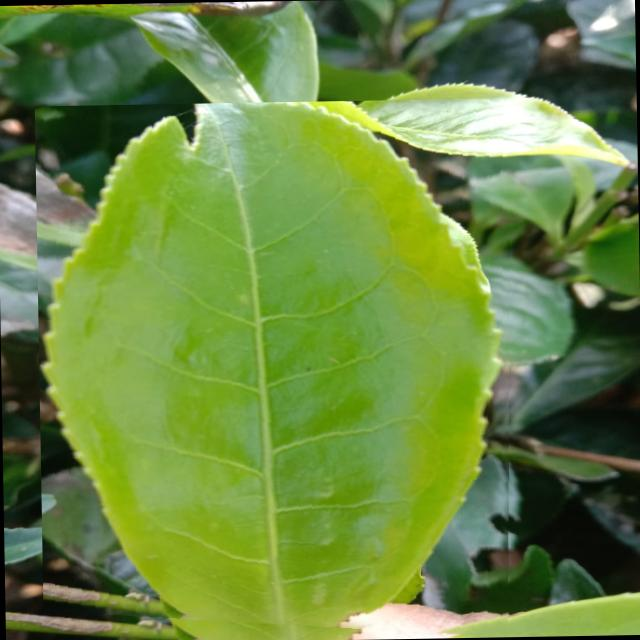Category B(2-4 days): (34, 98, 519, 640)
